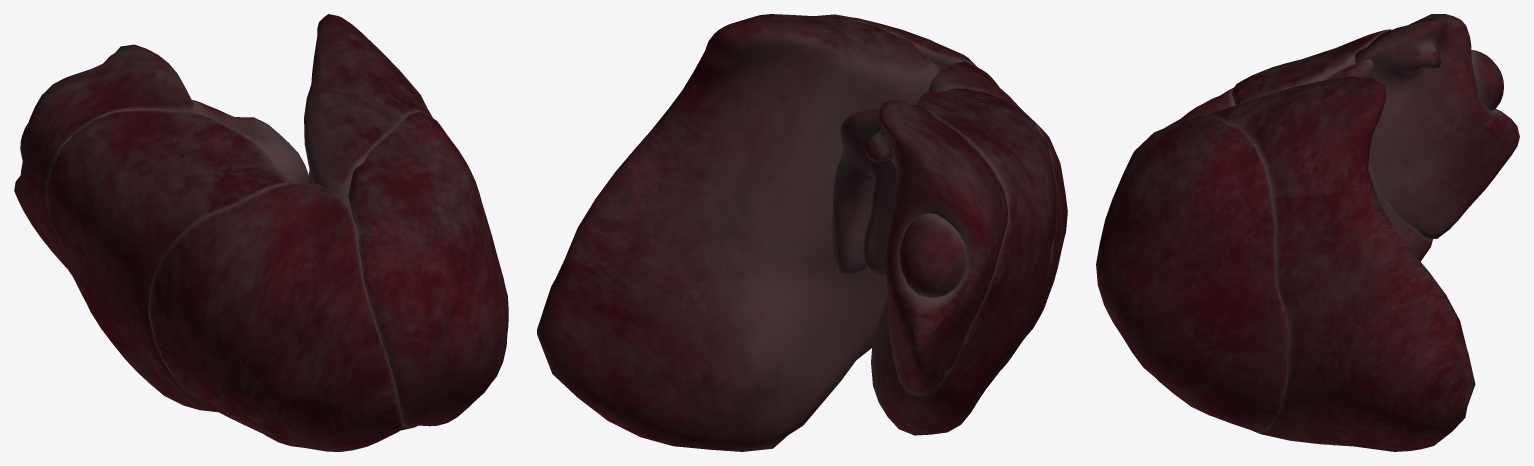
The model's file is Liver.glb.
3 views of the same model, side by side, from view 1: azimuth 30°, elevation 25°; view 2: azimuth 150°, elevation 25°; view 3: azimuth 270°, elevation 25° (orthographic). The views are drawn at different scales.
Visible parts, largest first — view 1: LowLiverFull_low:FrontRight_low, LowLiverFull_low:FrontLeft_low, LowLiverFull_low:MiddleLeft_low, LowLiverFull_low:BackLeft_low, LowLiverFull_low:BackRight_low, LowLiverFull_low:Middle_low; view 2: LowLiverFull_low:BackLeft_low, LowLiverFull_low:MiddleLeft_low, LowLiverFull_low:BackRight_low, LowLiverFull_low:Middle_low, LowLiverFull_low:Gal_low, LowLiverFull_low:FrontRight_low, LowLiverFull_low:FrontLeft_low; view 3: LowLiverFull_low:BackLeft_low, LowLiverFull_low:FrontLeft_low, LowLiverFull_low:BackRight_low, LowLiverFull_low:MiddleLeft_low, LowLiverFull_low:Gal_low, LowLiverFull_low:FrontRight_low, LowLiverFull_low:Middle_low.
Part boxes in pixels (<box>): LowLiverFull_low:FrontRight_low: <box>148,183,403,451</box>; LowLiverFull_low:FrontLeft_low: <box>348,111,508,428</box>; LowLiverFull_low:MiddleLeft_low: <box>46,110,291,412</box>; LowLiverFull_low:BackLeft_low: <box>304,14,432,430</box>; LowLiverFull_low:BackRight_low: <box>14,44,193,274</box>; LowLiverFull_low:Middle_low: <box>190,100,308,184</box>; LowLiverFull_low:BackLeft_low: <box>537,14,939,451</box>; LowLiverFull_low:MiddleLeft_low: <box>871,88,1056,435</box>; LowLiverFull_low:BackRight_low: <box>865,100,1007,395</box>; LowLiverFull_low:Middle_low: <box>832,105,896,276</box>; LowLiverFull_low:Gal_low: <box>900,213,967,297</box>; LowLiverFull_low:FrontRight_low: <box>928,61,1067,369</box>; LowLiverFull_low:FrontLeft_low: <box>818,14,977,71</box>; LowLiverFull_low:BackLeft_low: <box>1207,76,1475,451</box>; LowLiverFull_low:FrontLeft_low: <box>1096,116,1288,432</box>; LowLiverFull_low:BackRight_low: <box>1355,14,1519,238</box>; LowLiverFull_low:MiddleLeft_low: <box>1232,29,1432,261</box>; LowLiverFull_low:Gal_low: <box>1471,50,1503,110</box>; LowLiverFull_low:FrontRight_low: <box>1165,87,1235,127</box>; LowLiverFull_low:Middle_low: <box>1325,59,1373,79</box>.
Size of the model in its own units: 82.02 by 75.8 by 80.3.
Materials: 1 (1 with a texture image).
